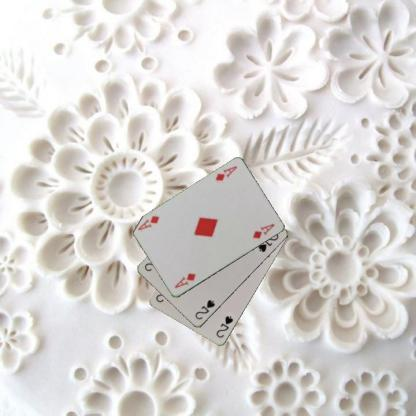2s: (192, 298, 216, 320), (214, 313, 234, 339)
Ad: (172, 271, 197, 289), (213, 164, 238, 182)
